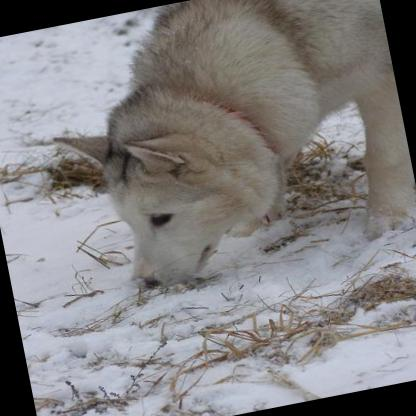malamute: (25, 0, 416, 306)
